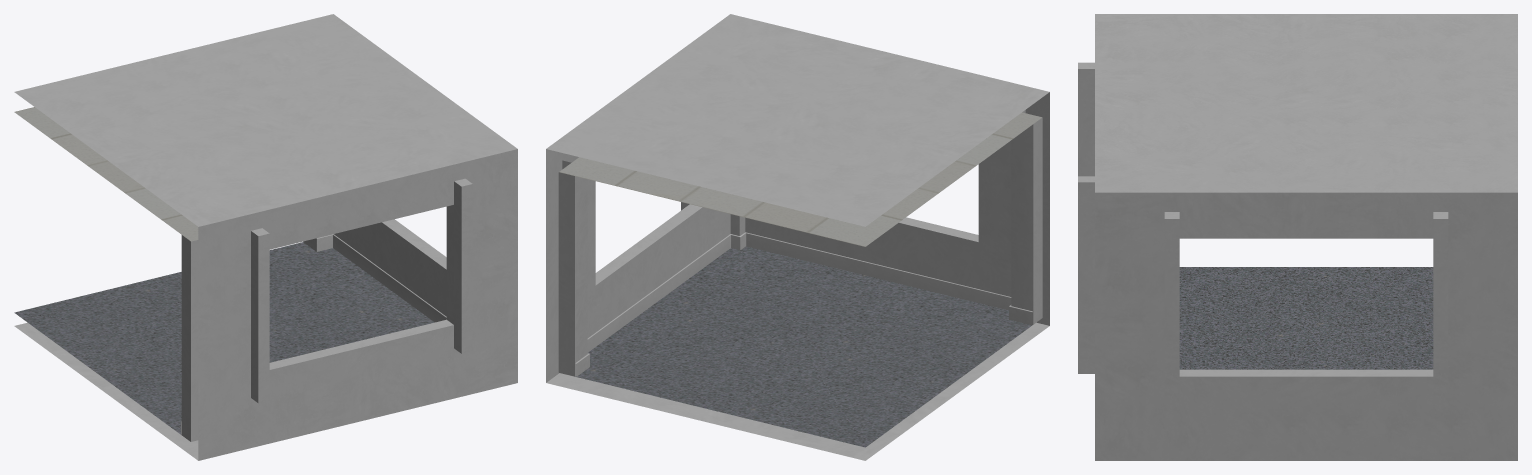
The model's file is SM_HallwayMesh_01_Corner_Window.fbx.
3 views of the same model, side by side, from view 1: azimuth 30°, elevation 25°; view 2: azimuth 150°, elevation 25°; view 3: azimuth 270°, elevation 25° (orthographic). The views are drawn at different scales.
Visible parts, largest first — view 1: SM_HallwayMesh_01_Corner_Window_LOD0; view 2: SM_HallwayMesh_01_Corner_Window_LOD0; view 3: SM_HallwayMesh_01_Corner_Window_LOD0.
Boxes of the visible parts, left/top/right/bottom form: SM_HallwayMesh_01_Corner_Window_LOD0: left=14, top=14, right=517, bottom=460; SM_HallwayMesh_01_Corner_Window_LOD0: left=546, top=14, right=1049, bottom=460; SM_HallwayMesh_01_Corner_Window_LOD0: left=1078, top=14, right=1517, bottom=460.
Bounding box in the file's own units: 520 × 520 × 350.
4 materials, 4 textured.
